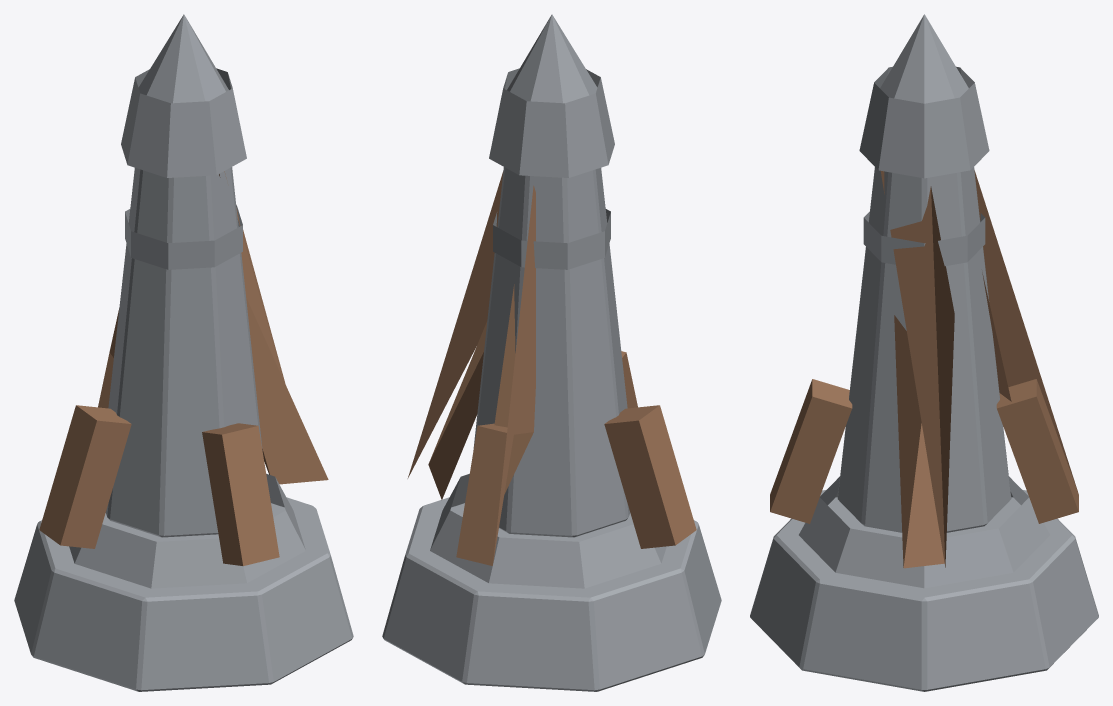
The model's file is spike.glb.
3 views of the same model, side by side, from view 1: azimuth 30°, elevation 25°; view 2: azimuth 150°, elevation 25°; view 3: azimuth 270°, elevation 25° (orthographic).
Parts seen in each view (by area): view 1: spike_hero, spike_detail; view 2: spike_hero, spike_detail; view 3: spike_hero, spike_detail.
Part boxes in pixels (bbox=[...]): spike_hero: bbox=[14, 167, 353, 691]; spike_detail: bbox=[39, 14, 328, 588]; spike_hero: bbox=[382, 167, 721, 691]; spike_detail: bbox=[407, 14, 696, 588]; spike_hero: bbox=[750, 167, 1098, 691]; spike_detail: bbox=[770, 14, 1078, 588].
Size of the model in its own units: 0.8309 by 1.59 by 0.8309.
